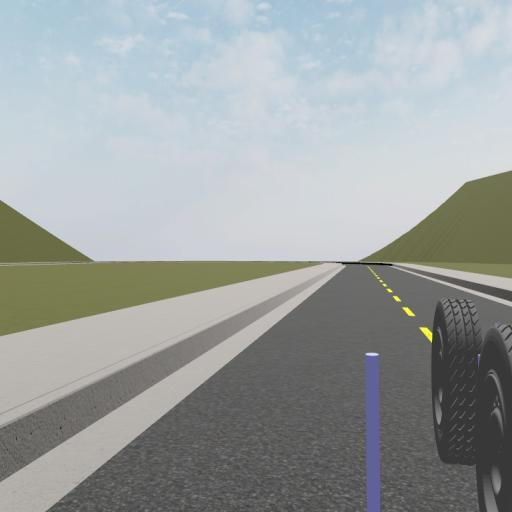ERP-42: (430, 296, 512, 512)
